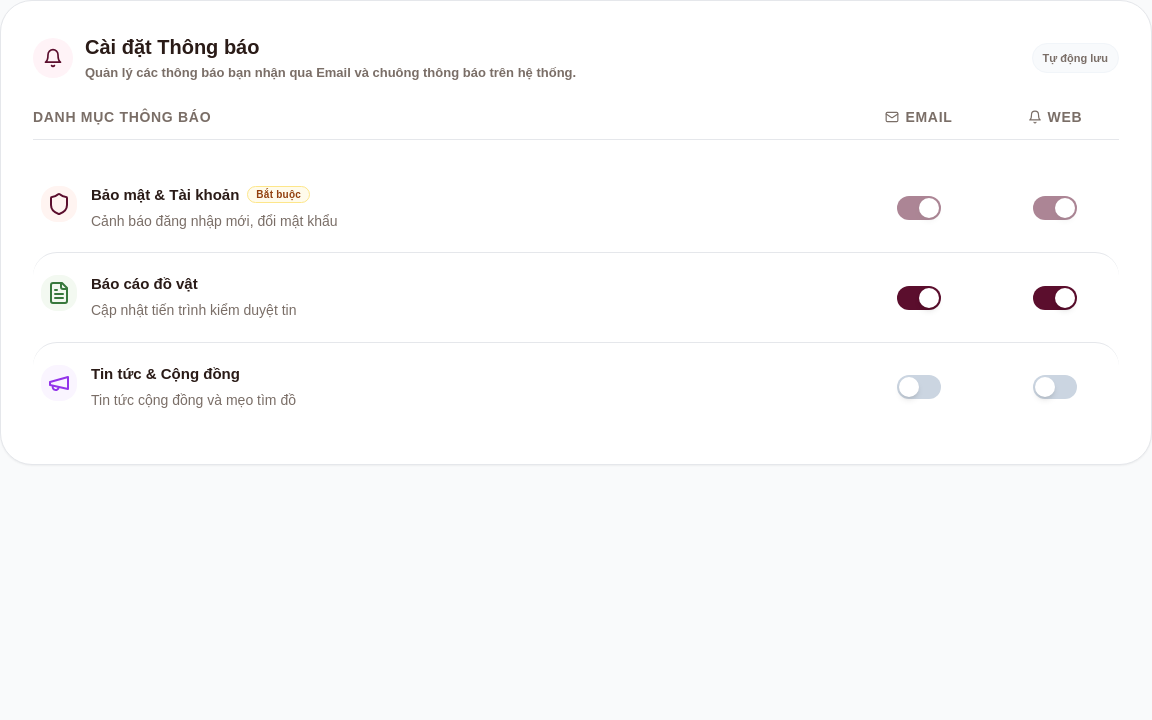
Scenario: ProfileNotificationsTab › rolls back switch and displays feedback alert on error
expect the heading "Báo cáo đồ vật" is shown: met, box x1=91 y1=273 x2=198 y2=295
Click the switch named "Bật/tắt thông báo email cho Báo cáo đồ vật".
click(919, 298)  # box x1=897 y1=286 x2=941 y2=310
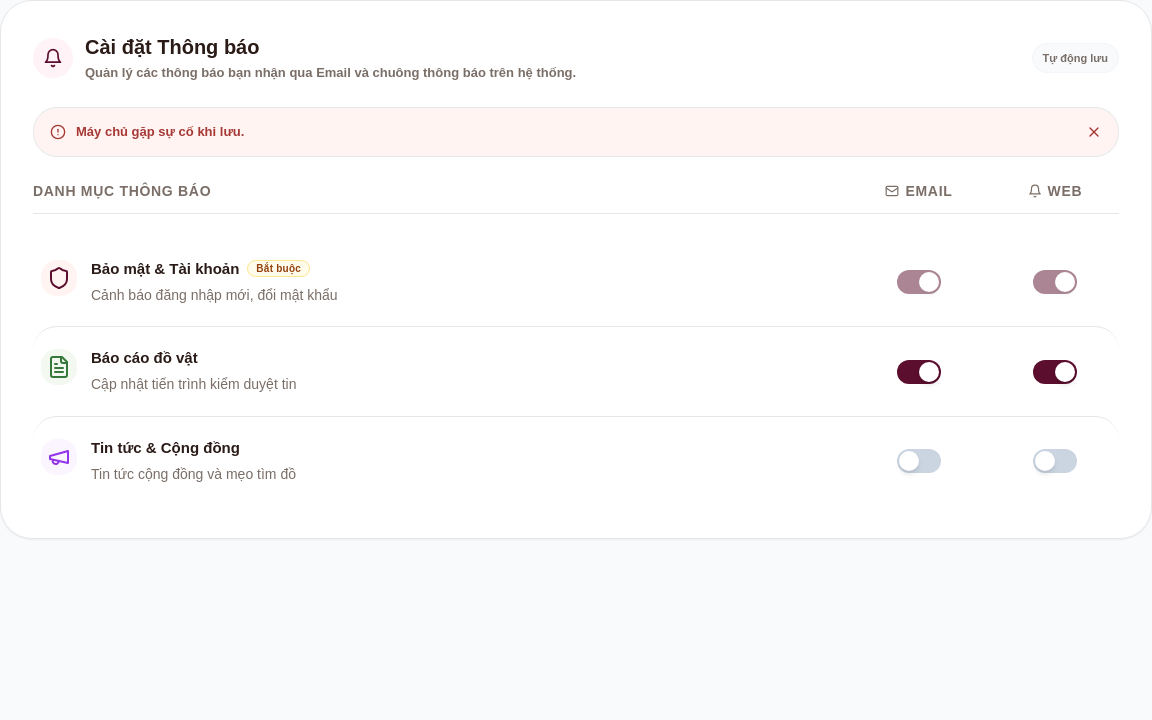
expect the text "Máy chủ gặp sự cố khi lưu." is shown: met, box x1=76 y1=124 x2=244 y2=139
